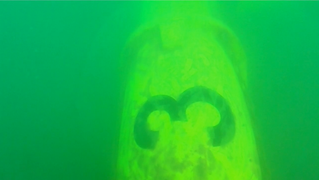3: (133, 84, 235, 150)
pipe: (117, 1, 263, 179)
